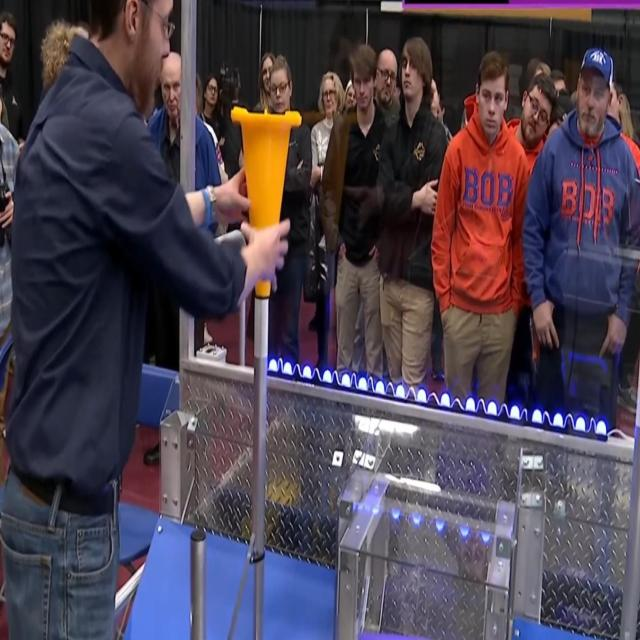frc_cone: (227, 103, 299, 297)
frc_cube: (353, 624, 443, 640)
